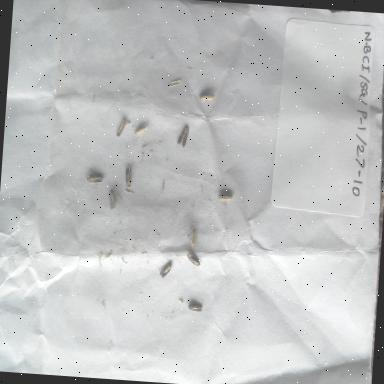pbw: (81, 160, 110, 194), (180, 219, 208, 250), (184, 292, 213, 316), (174, 119, 196, 150), (152, 254, 176, 282), (164, 70, 188, 96), (101, 185, 124, 210), (132, 118, 154, 142), (198, 88, 220, 109), (121, 162, 136, 190), (184, 250, 202, 270), (105, 188, 117, 216), (114, 115, 128, 139), (214, 190, 234, 206)
